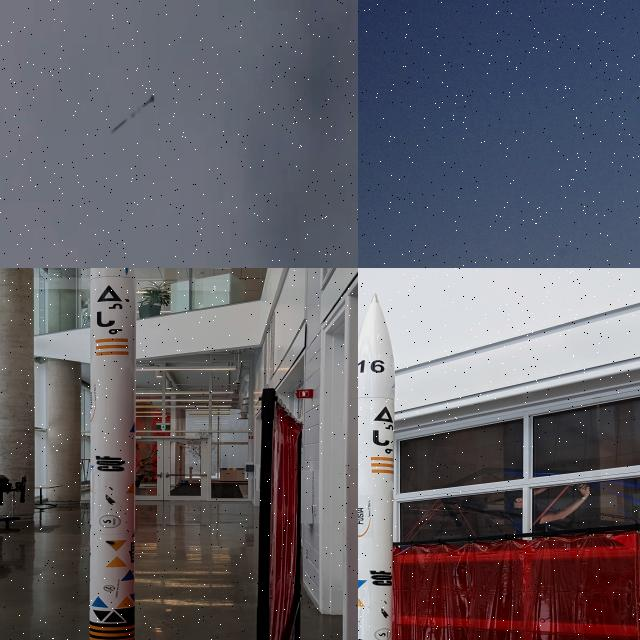Rocket: (89, 268, 137, 640), (358, 293, 395, 640), (111, 95, 154, 134)
